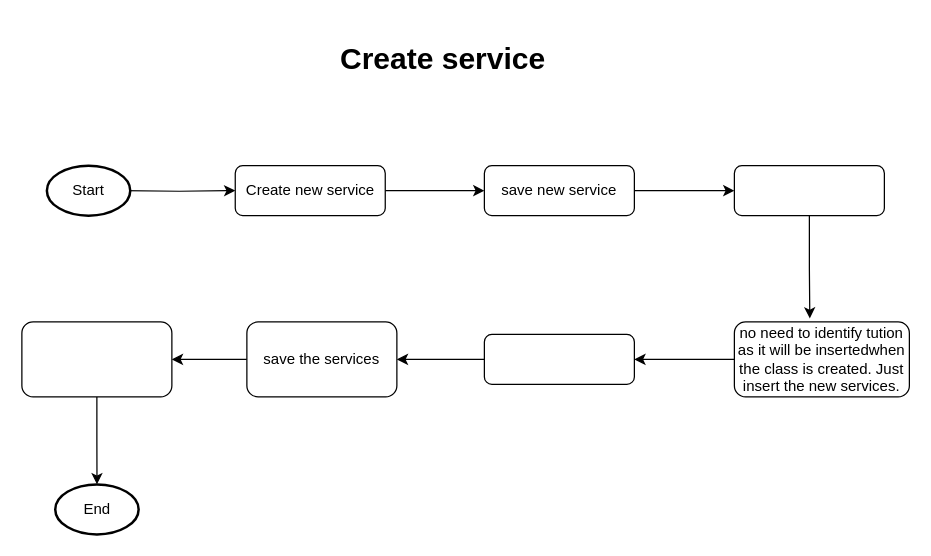
Some shapes in this 931 by 556 pixel diagram are drawn without their labels. The box of each missing label's shape, as (x1, y1, x2, y2) in pixels:
Fetch all the classes by school id: (733, 164, 884, 216)
loop and assign each class to new service: (483, 333, 634, 384)
Return saved services: (21, 321, 172, 397)
